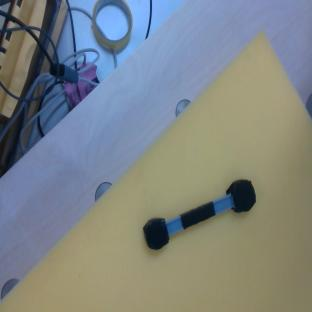part_3_bad: (139, 175, 262, 253)
